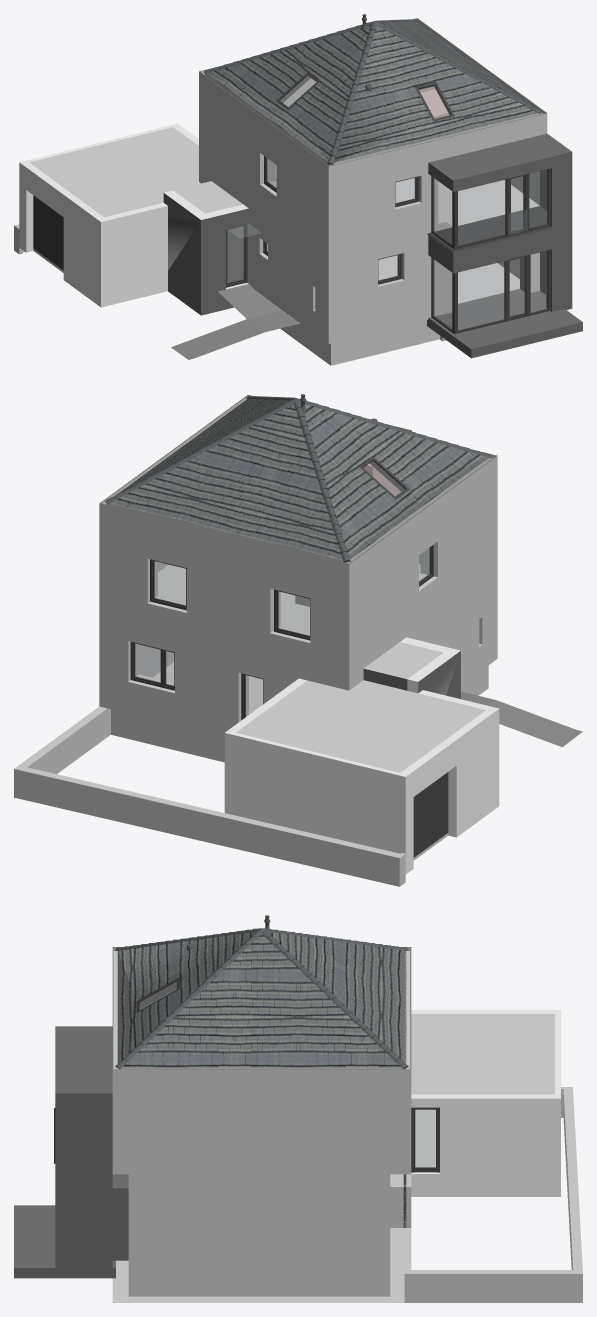
File: wurmova.glb
3 renders of one model, top to bottom at view 1: azimuth 30°, elevation 25°; view 2: azimuth 150°, elevation 25°; view 3: azimuth 270°, elevation 25°, orthographic. The views are drawn at different scales.
Visible parts, largest first — view 1: wurmova_architecture; view 2: wurmova_architecture; view 3: wurmova_architecture.
Boxes of the visible parts, <box> form: wurmova_architecture: <box>14,14,582,365</box>; wurmova_architecture: <box>14,394,582,886</box>; wurmova_architecture: <box>14,915,582,1302</box>.
Bounding box in the file's own units: 13.87 × 11.14 × 17.84.
Materials: 10 (1 with a texture image).
